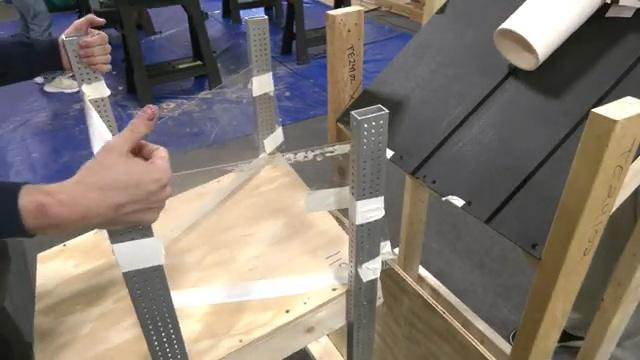CORAL: (491, 0, 606, 71)
